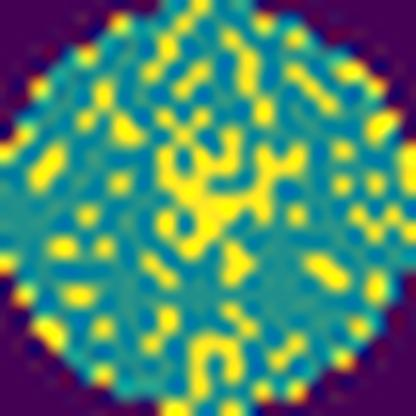Center: (153, 107, 308, 266)
